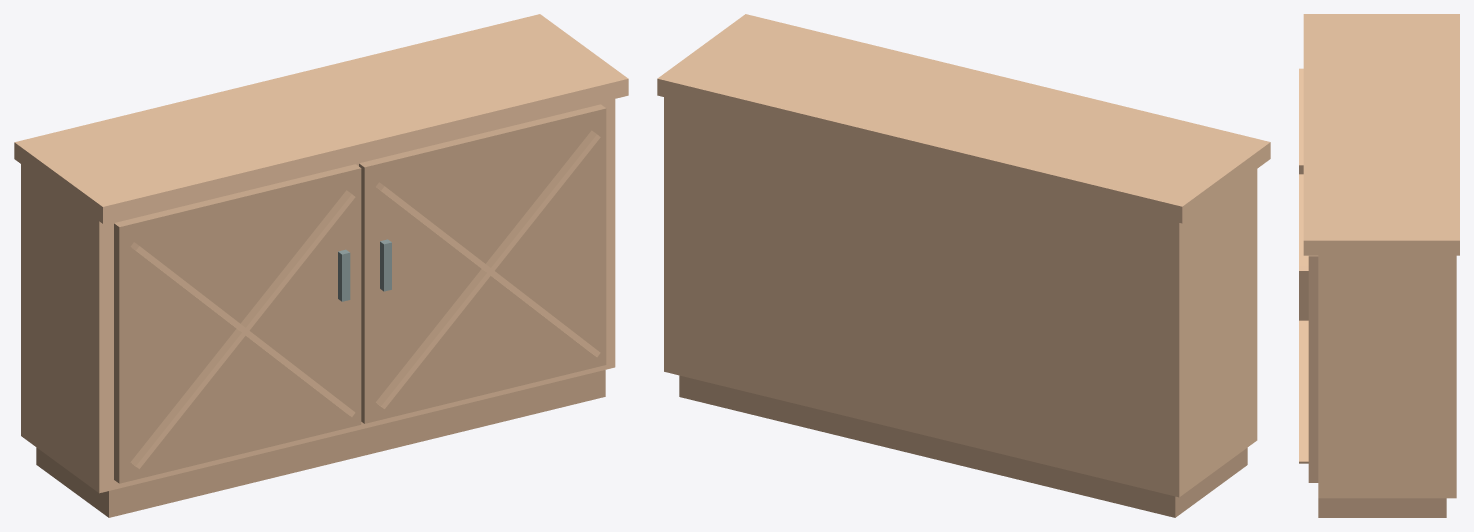
Rendered from sideboardRustic.glb.
3 views of the same model, side by side, from view 1: azimuth 30°, elevation 25°; view 2: azimuth 150°, elevation 25°; view 3: azimuth 270°, elevation 25° (orthographic). The views are drawn at different scales.
Parts seen in each view (by area): view 1: sideboardRustic; view 2: sideboardRustic; view 3: sideboardRustic.
Part boxes in pixels (left/top/right/bottom): sideboardRustic: left=14, top=14, right=628, bottom=517; sideboardRustic: left=657, top=14, right=1270, bottom=517; sideboardRustic: left=1299, top=14, right=1459, bottom=517.
Size of the model in its own units: 0.815 by 0.475 by 0.2445.
